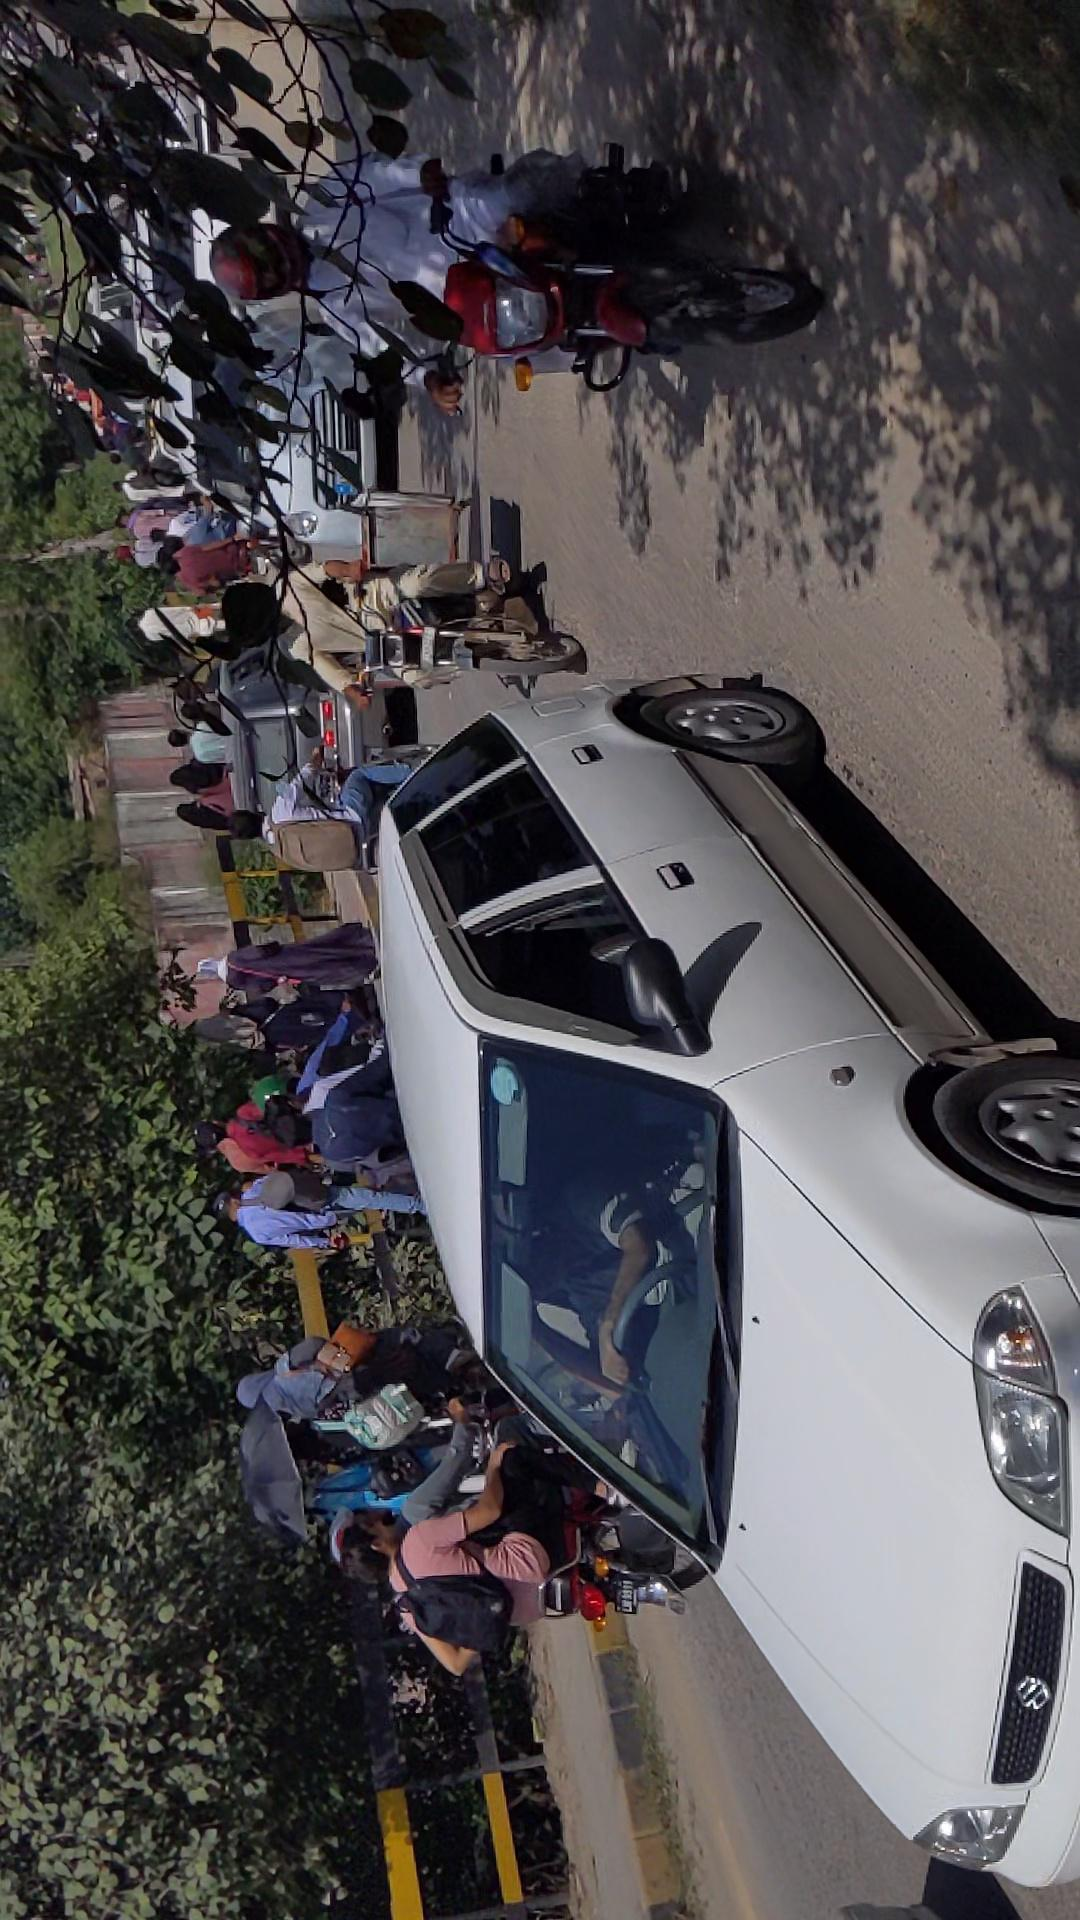windshield: (186, 818, 502, 1316)
